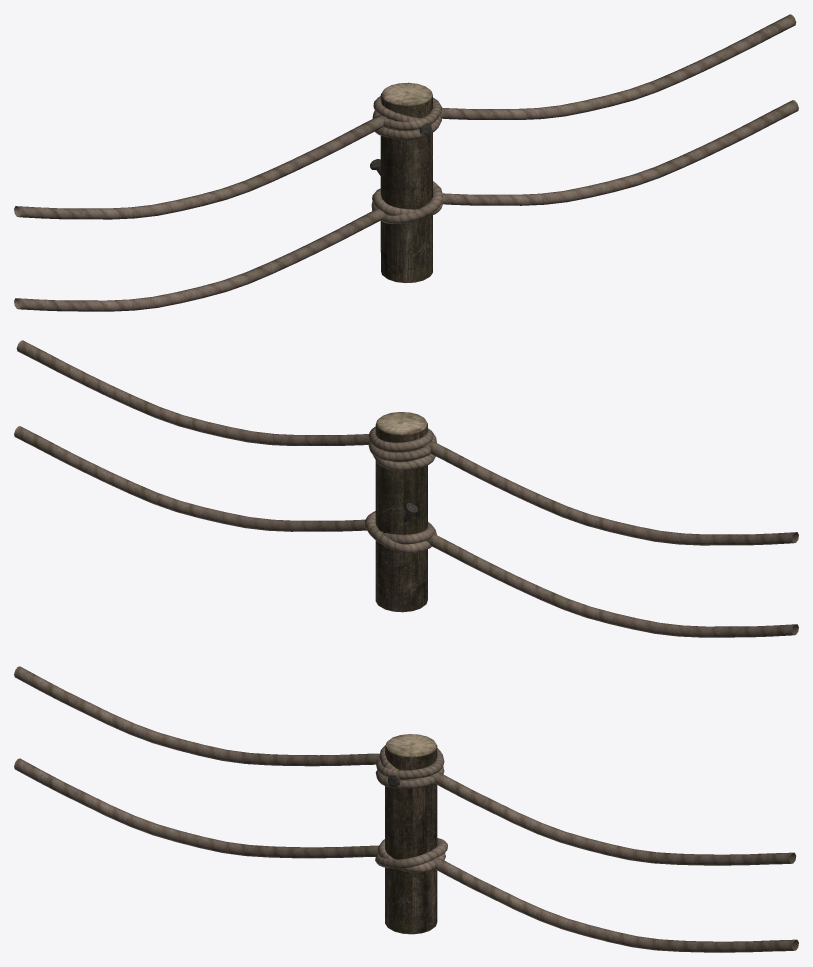
The model's file is rope_fence04.fbx.
3 renders of one model, top to bottom at view 1: azimuth 30°, elevation 25°; view 2: azimuth 150°, elevation 25°; view 3: azimuth 330°, elevation 25°, orthographic.
Visible parts, largest first — view 1: rope_fence04; view 2: rope_fence04; view 3: rope_fence04.
Boxes of the visible parts, <box> form: rope_fence04: <box>14,14,798,311</box>; rope_fence04: <box>14,340,798,637</box>; rope_fence04: <box>14,666,798,952</box>.
Size of the model in its own units: 532 by 117 by 43.91.
